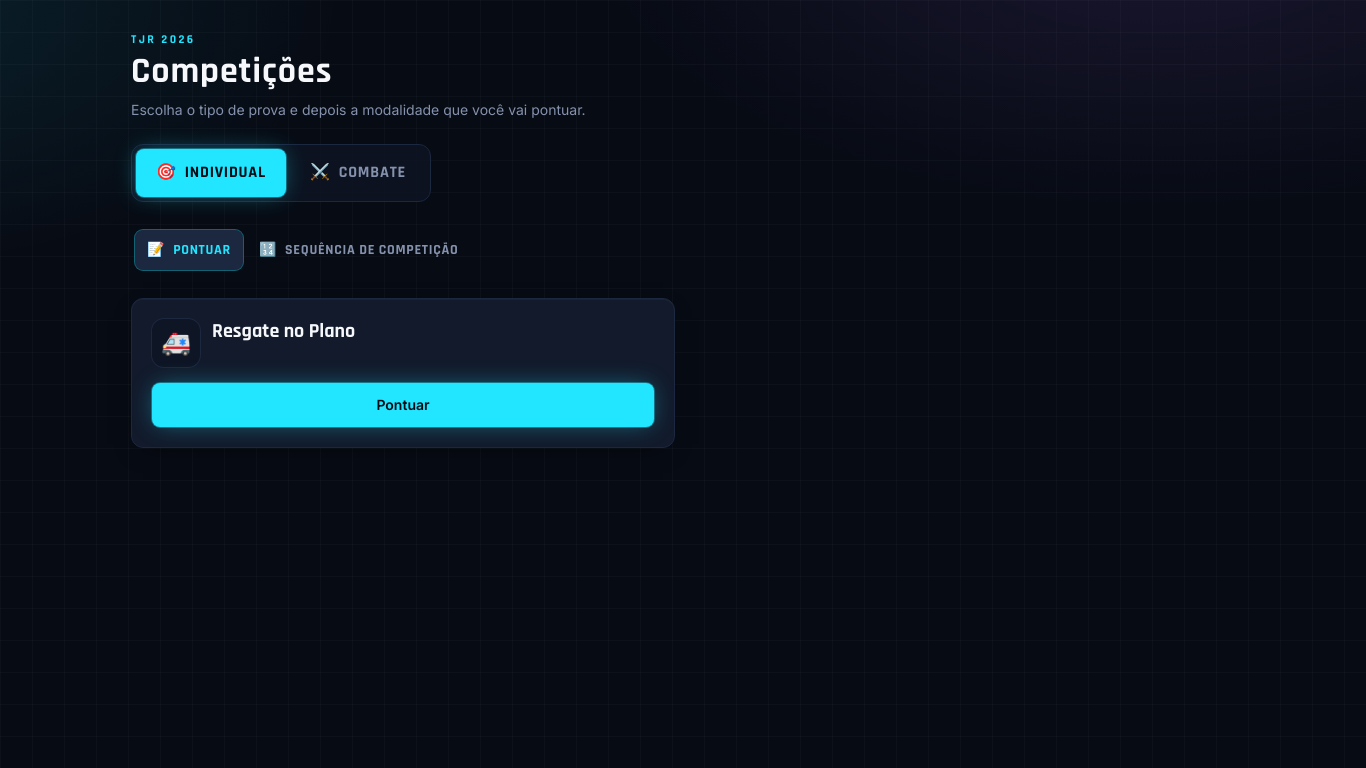
it: CompeticoesPage › troca pra aba Combate ao clicar, mostrando as modalidades de confronto
The width and height of the screenshot is (1366, 768).
Click the tab "⚔️ Combate" at {"x": 358, "y": 173}, box [290,149,426,197]
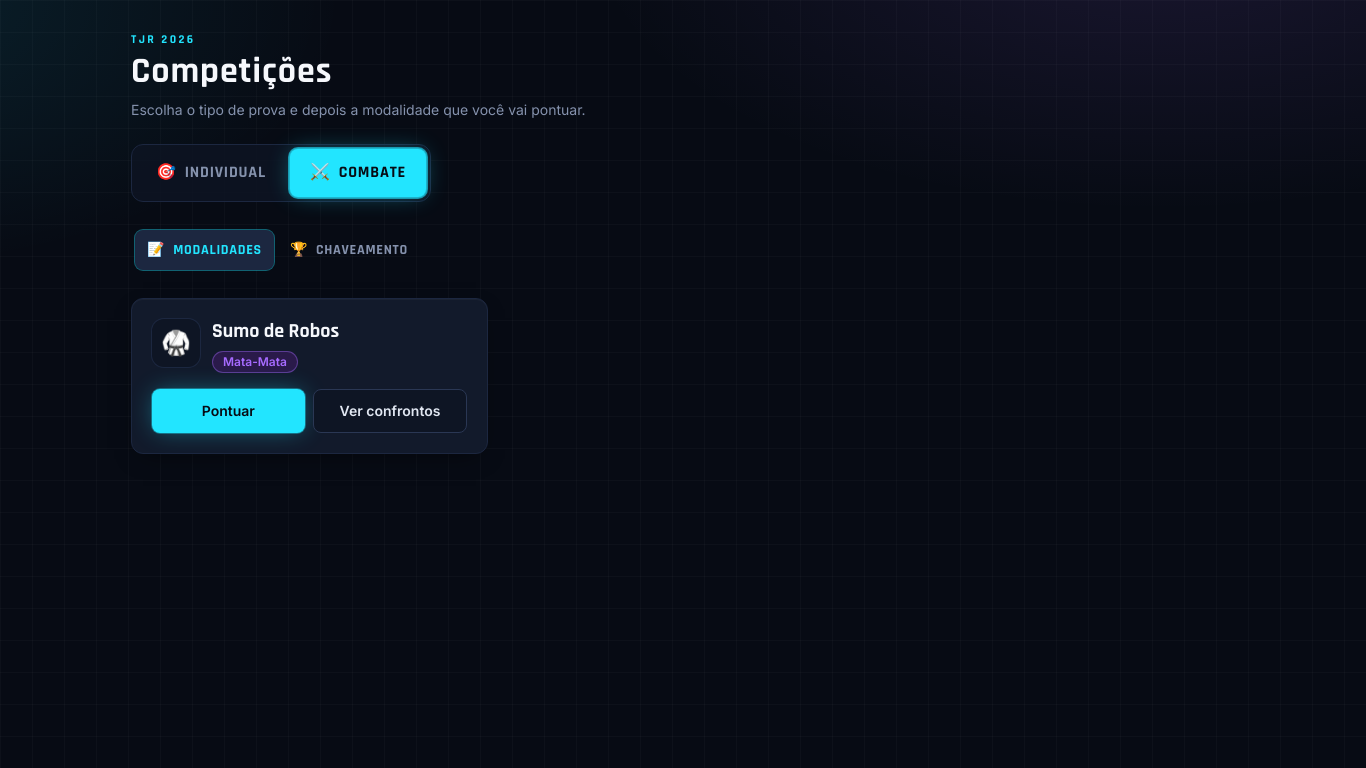
Expected: the text "Sumo de Robos" is shown, [212,319,339,344]
